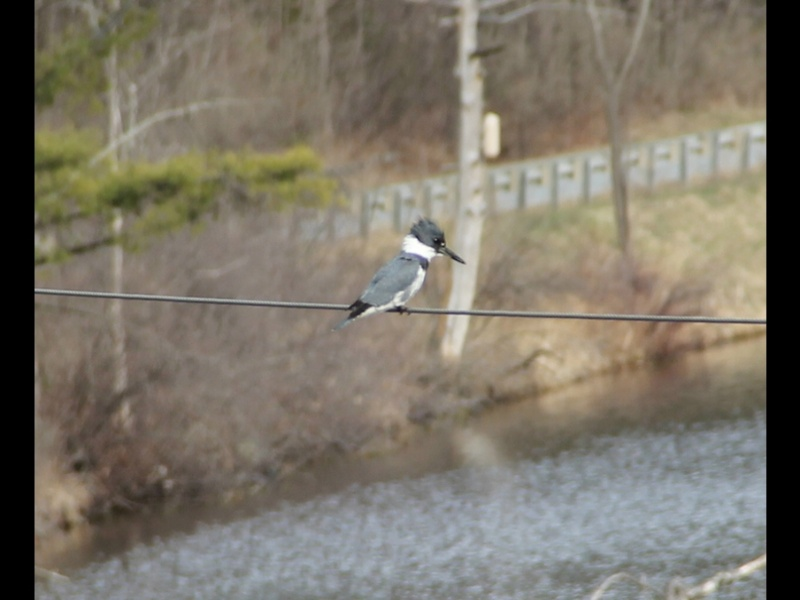kingfisher: (347, 215, 467, 324)
